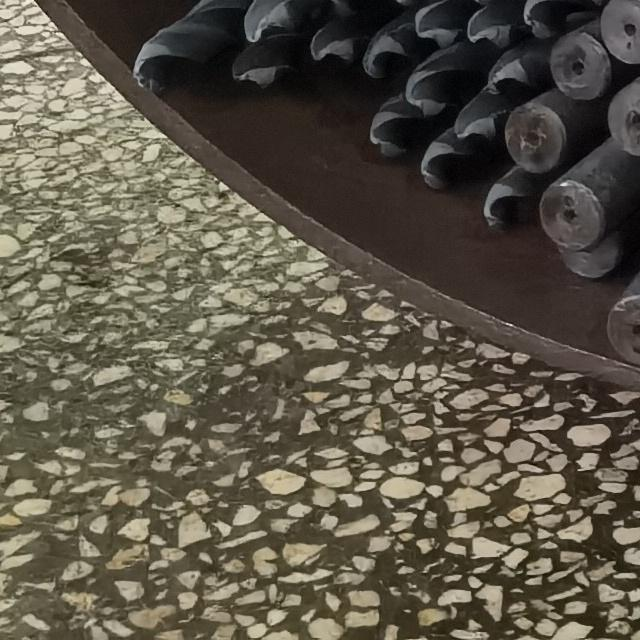tool: (506, 86, 610, 173), (538, 177, 604, 249), (549, 30, 611, 100), (560, 223, 621, 275), (607, 73, 640, 154), (608, 293, 640, 366), (602, 0, 640, 61), (554, 620, 588, 640)
tool_b: (403, 40, 493, 114), (126, 26, 207, 94), (490, 39, 556, 95), (483, 172, 537, 232), (464, 0, 526, 45), (369, 98, 414, 160), (423, 133, 472, 189), (412, 0, 468, 47), (524, 0, 602, 33), (243, 0, 298, 44), (229, 51, 289, 87), (363, 29, 407, 78), (311, 26, 356, 70), (456, 100, 500, 143), (326, 0, 370, 18)
